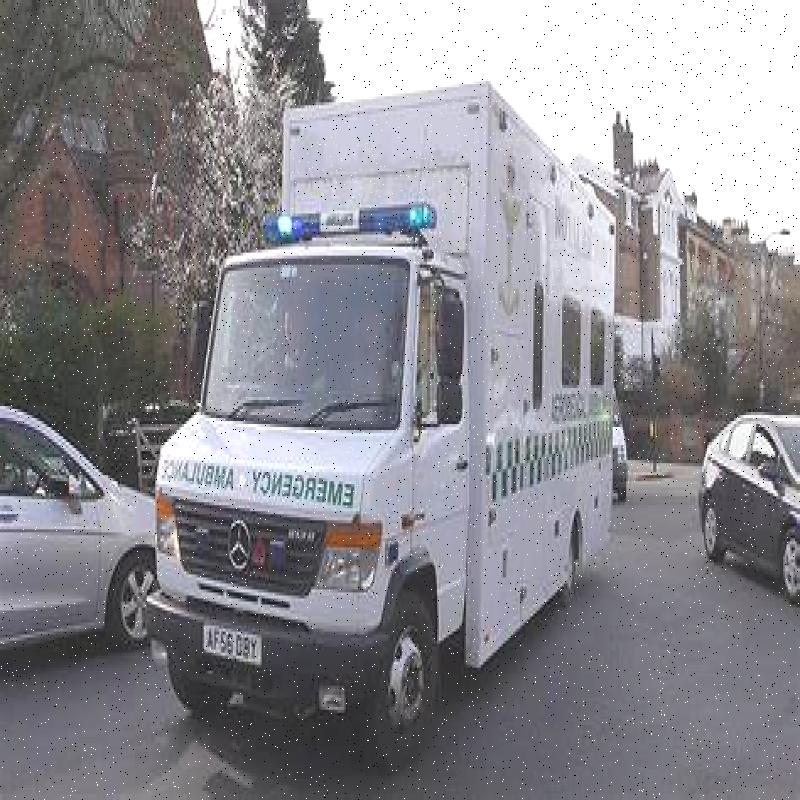AmbulanceSiren: (254, 190, 432, 258)
